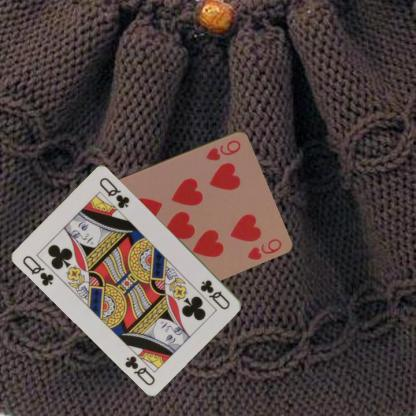9h: (203, 137, 242, 162)
Qc: (20, 252, 56, 288), (198, 277, 232, 311)
